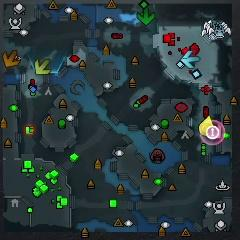Other: (200, 120, 224, 146), (207, 125, 219, 140)
p4: (199, 116, 213, 136)
x1: (216, 122, 223, 141)
x2: (35, 58, 51, 76)
x3: (181, 51, 200, 69)
x4: (138, 8, 156, 25)
x5: (2, 50, 20, 68)
